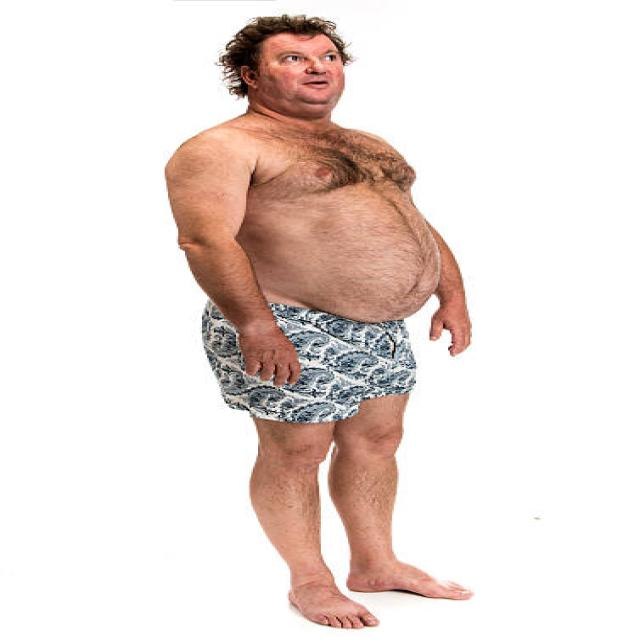Edited images: (151, 6, 538, 635)
